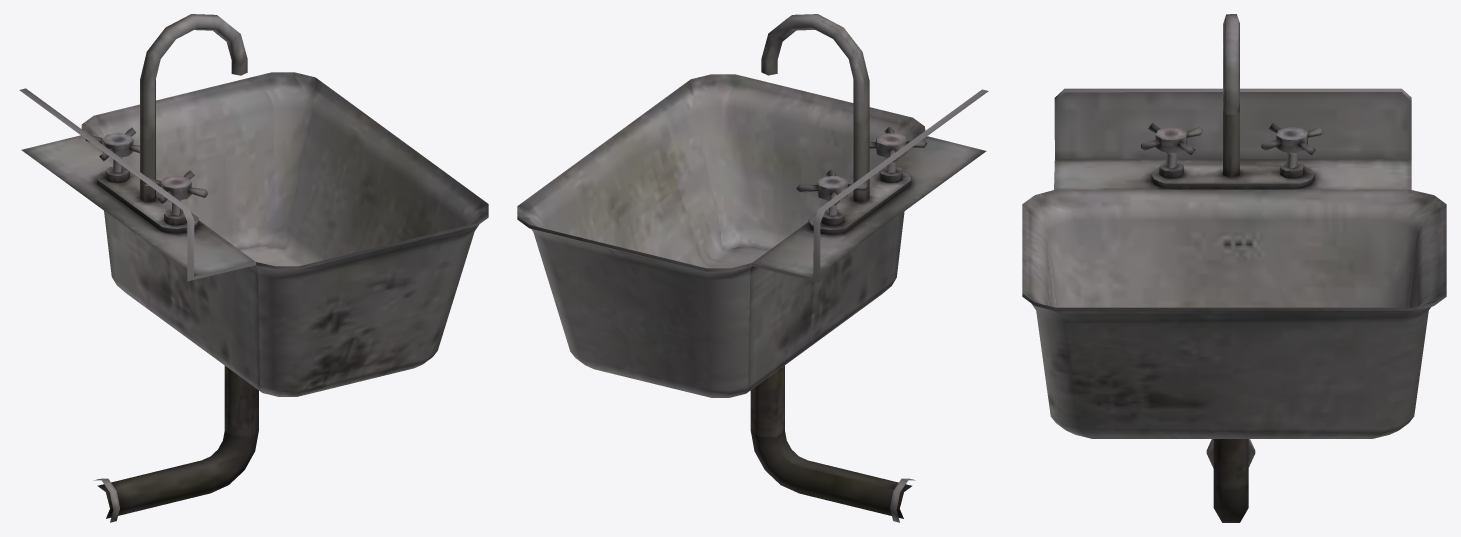
File: sinkkitchen01a.glb
3 renders of one model, left to right at view 1: azimuth 30°, elevation 25°; view 2: azimuth 150°, elevation 25°; view 3: azimuth 270°, elevation 25°, orthographic. The views are drawn at different scales.
Visible parts, largest first — view 1: 0_SinkKitchen01a; view 2: 0_SinkKitchen01a; view 3: 0_SinkKitchen01a.
Part boxes in pixels (left/top/right/bottom): 0_SinkKitchen01a: left=19, top=14, right=488, bottom=522; 0_SinkKitchen01a: left=517, top=14, right=988, bottom=522; 0_SinkKitchen01a: left=1022, top=14, right=1446, bottom=522.
Bounding box in the file's own units: 0.591 × 0.9046 × 0.6963.
1 material, 1 textured.
